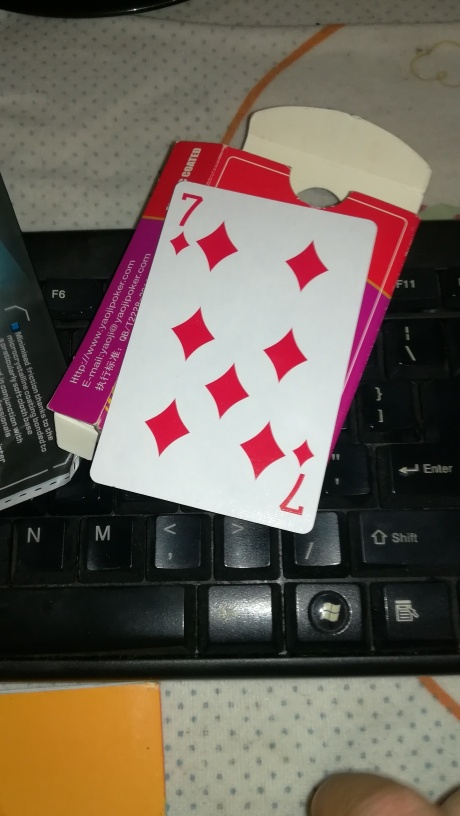fk 7: (86, 180, 379, 536)
